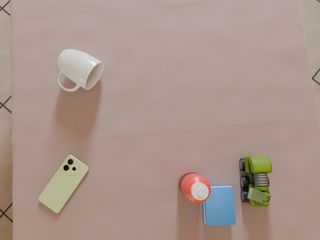bottle: (178, 172, 211, 203)
box: (203, 186, 236, 226)
cup: (57, 49, 103, 91)
phone: (39, 155, 89, 213)
toy_car: (239, 156, 272, 207)
